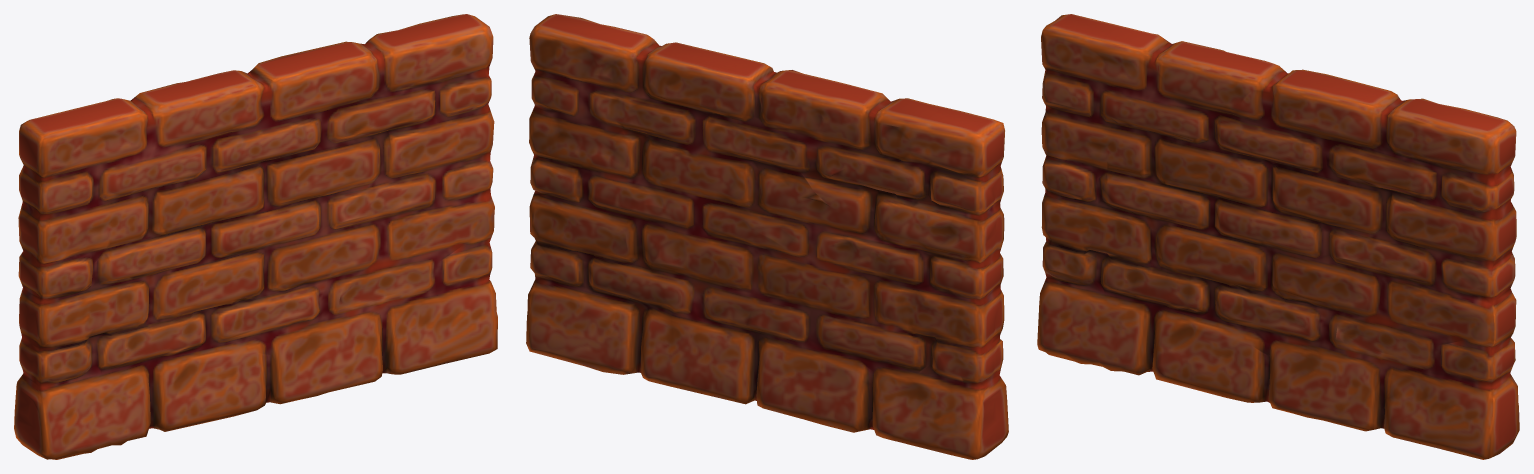
File: WallSeg4.fbx
3 renders of one model, left to right at view 1: azimuth 30°, elevation 25°; view 2: azimuth 150°, elevation 25°; view 3: azimuth 330°, elevation 25°, orthographic.
Visible parts, largest first — view 1: WallSeg4_Lo; view 2: WallSeg4_Lo; view 3: WallSeg4_Lo.
Part boxes in pixels (left/top/right/bottom): WallSeg4_Lo: left=14, top=14, right=497, bottom=459; WallSeg4_Lo: left=526, top=14, right=1008, bottom=459; WallSeg4_Lo: left=1037, top=14, right=1519, bottom=459.
Bounding box in the file's own units: 1109 × 754 × 143.
